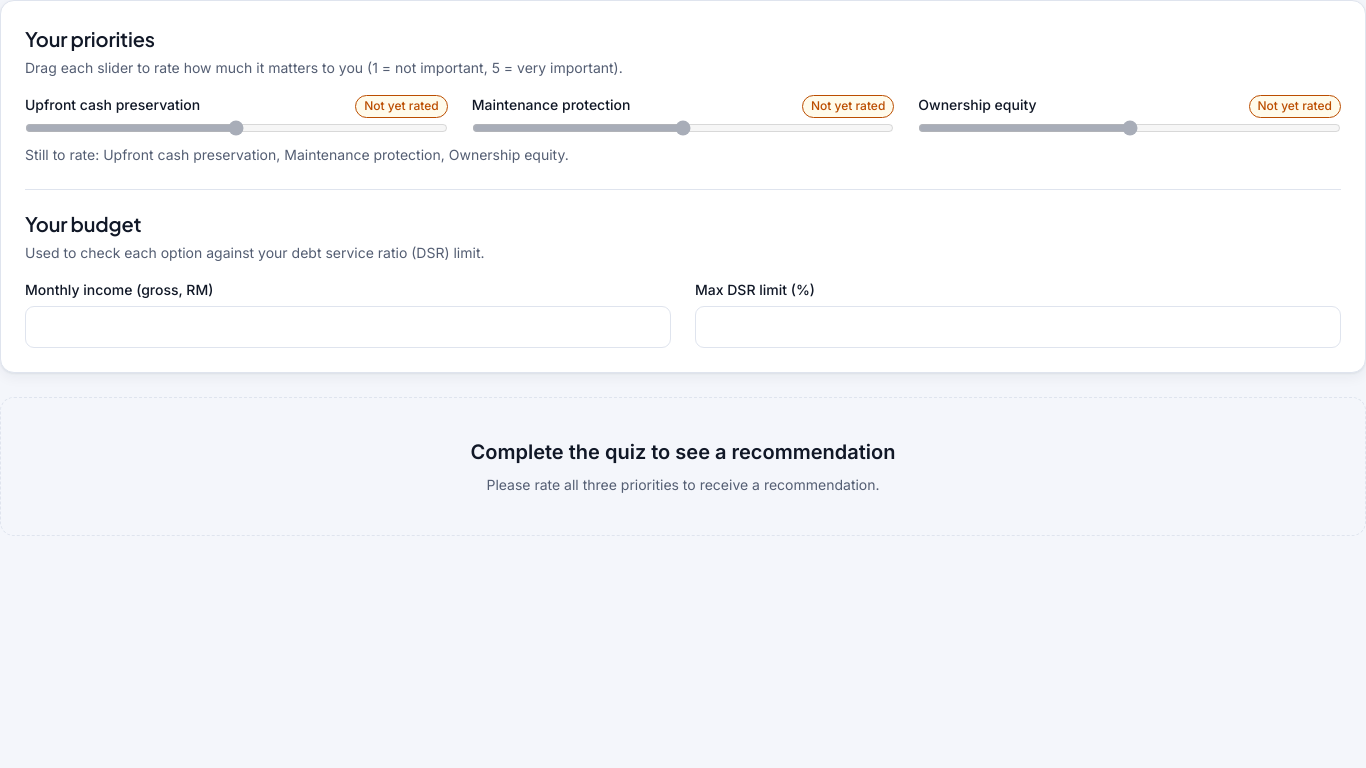
Test: RecommendationPanel › updates the 'still to rate' line as one, two, then all three sliders are rated
This screenshot has width=1366, height=768.
Set the slider labelled "Maintenance protection" to "4" at (785, 128), box 472,124 -> 894,132
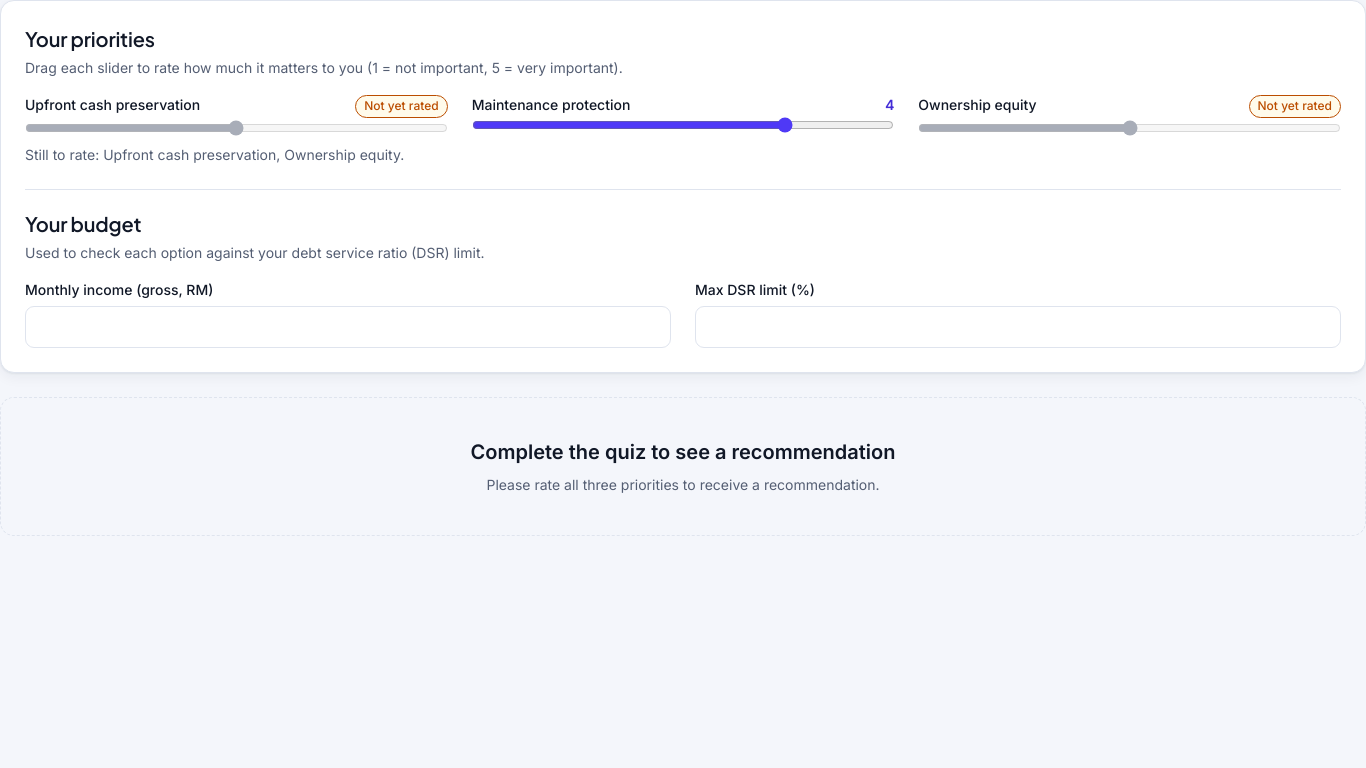
Result: the text "Still to rate: Upfront cash preservation, Ownership equity." is shown at 25,146 -> 404,163
Result: the text "Not yet rated" is shown 2 times at 355,95 -> 448,118; 1248,95 -> 1341,118
Set the slider labelled "Upfront cash preservation" to "2" at (135, 128), box 25,124 -> 448,132
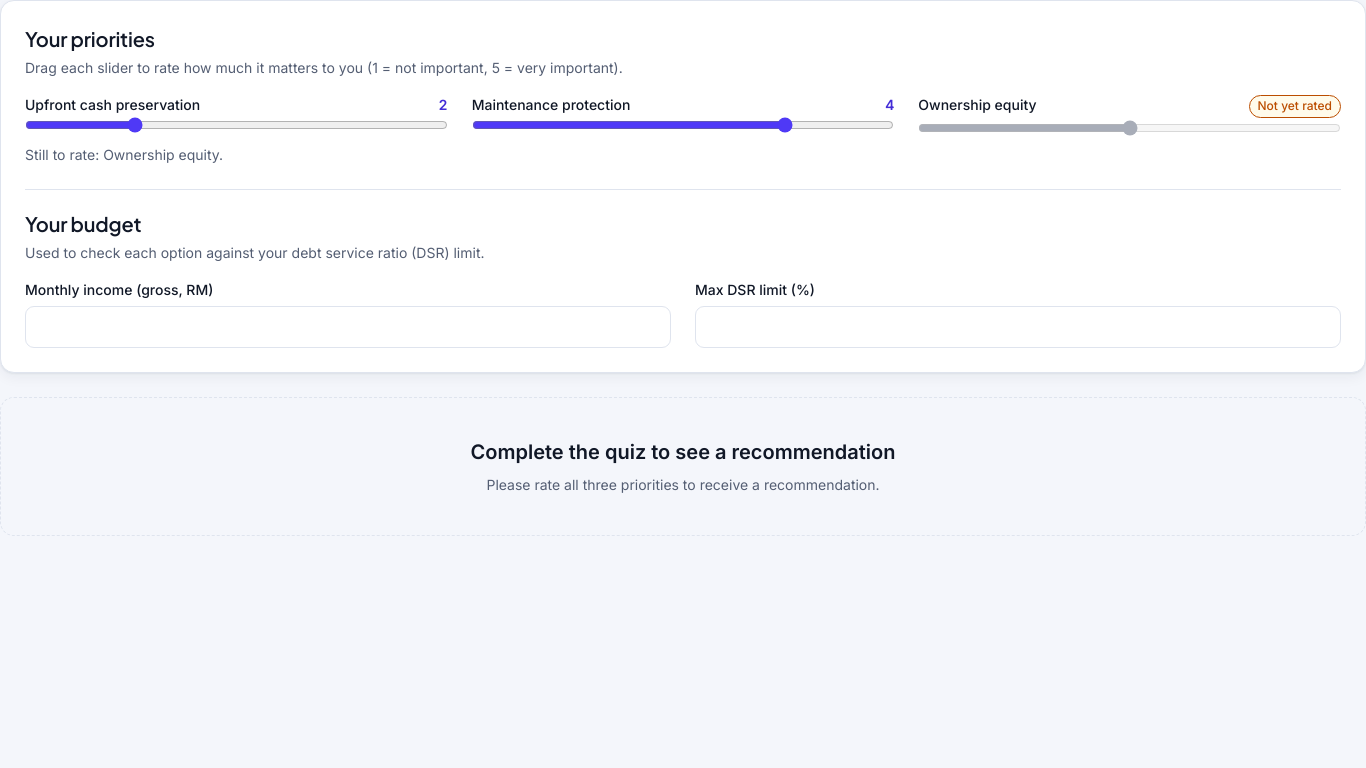
Expected: the text "Not yet rated" is shown once, 1248,95 -> 1341,118
Result: the text "Still to rate: Ownership equity." is shown at 25,146 -> 223,163
Set the slider labelled "Ownership equity" to "5" at (1333, 128), box 918,124 -> 1341,132
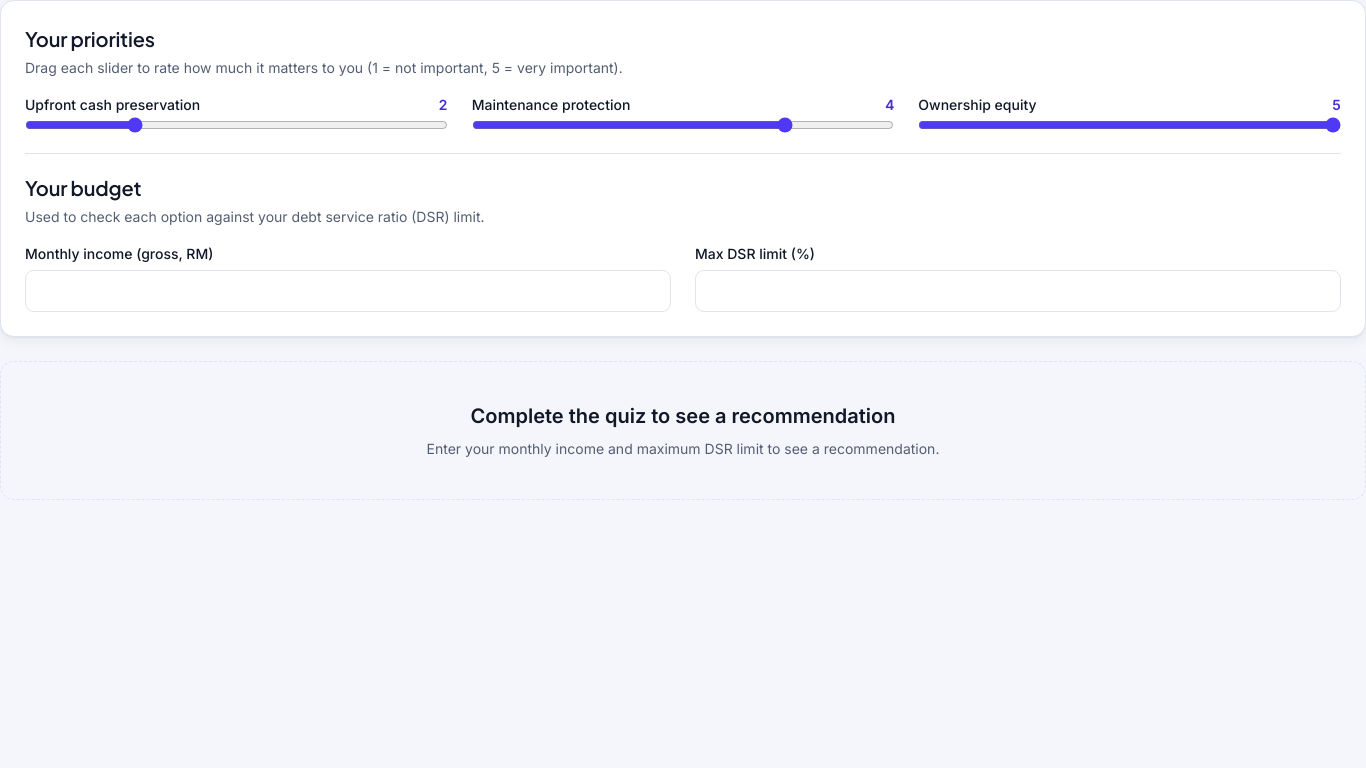
Result: the text "Still to rate" is gone
Result: the text "Not yet rated" is not shown
